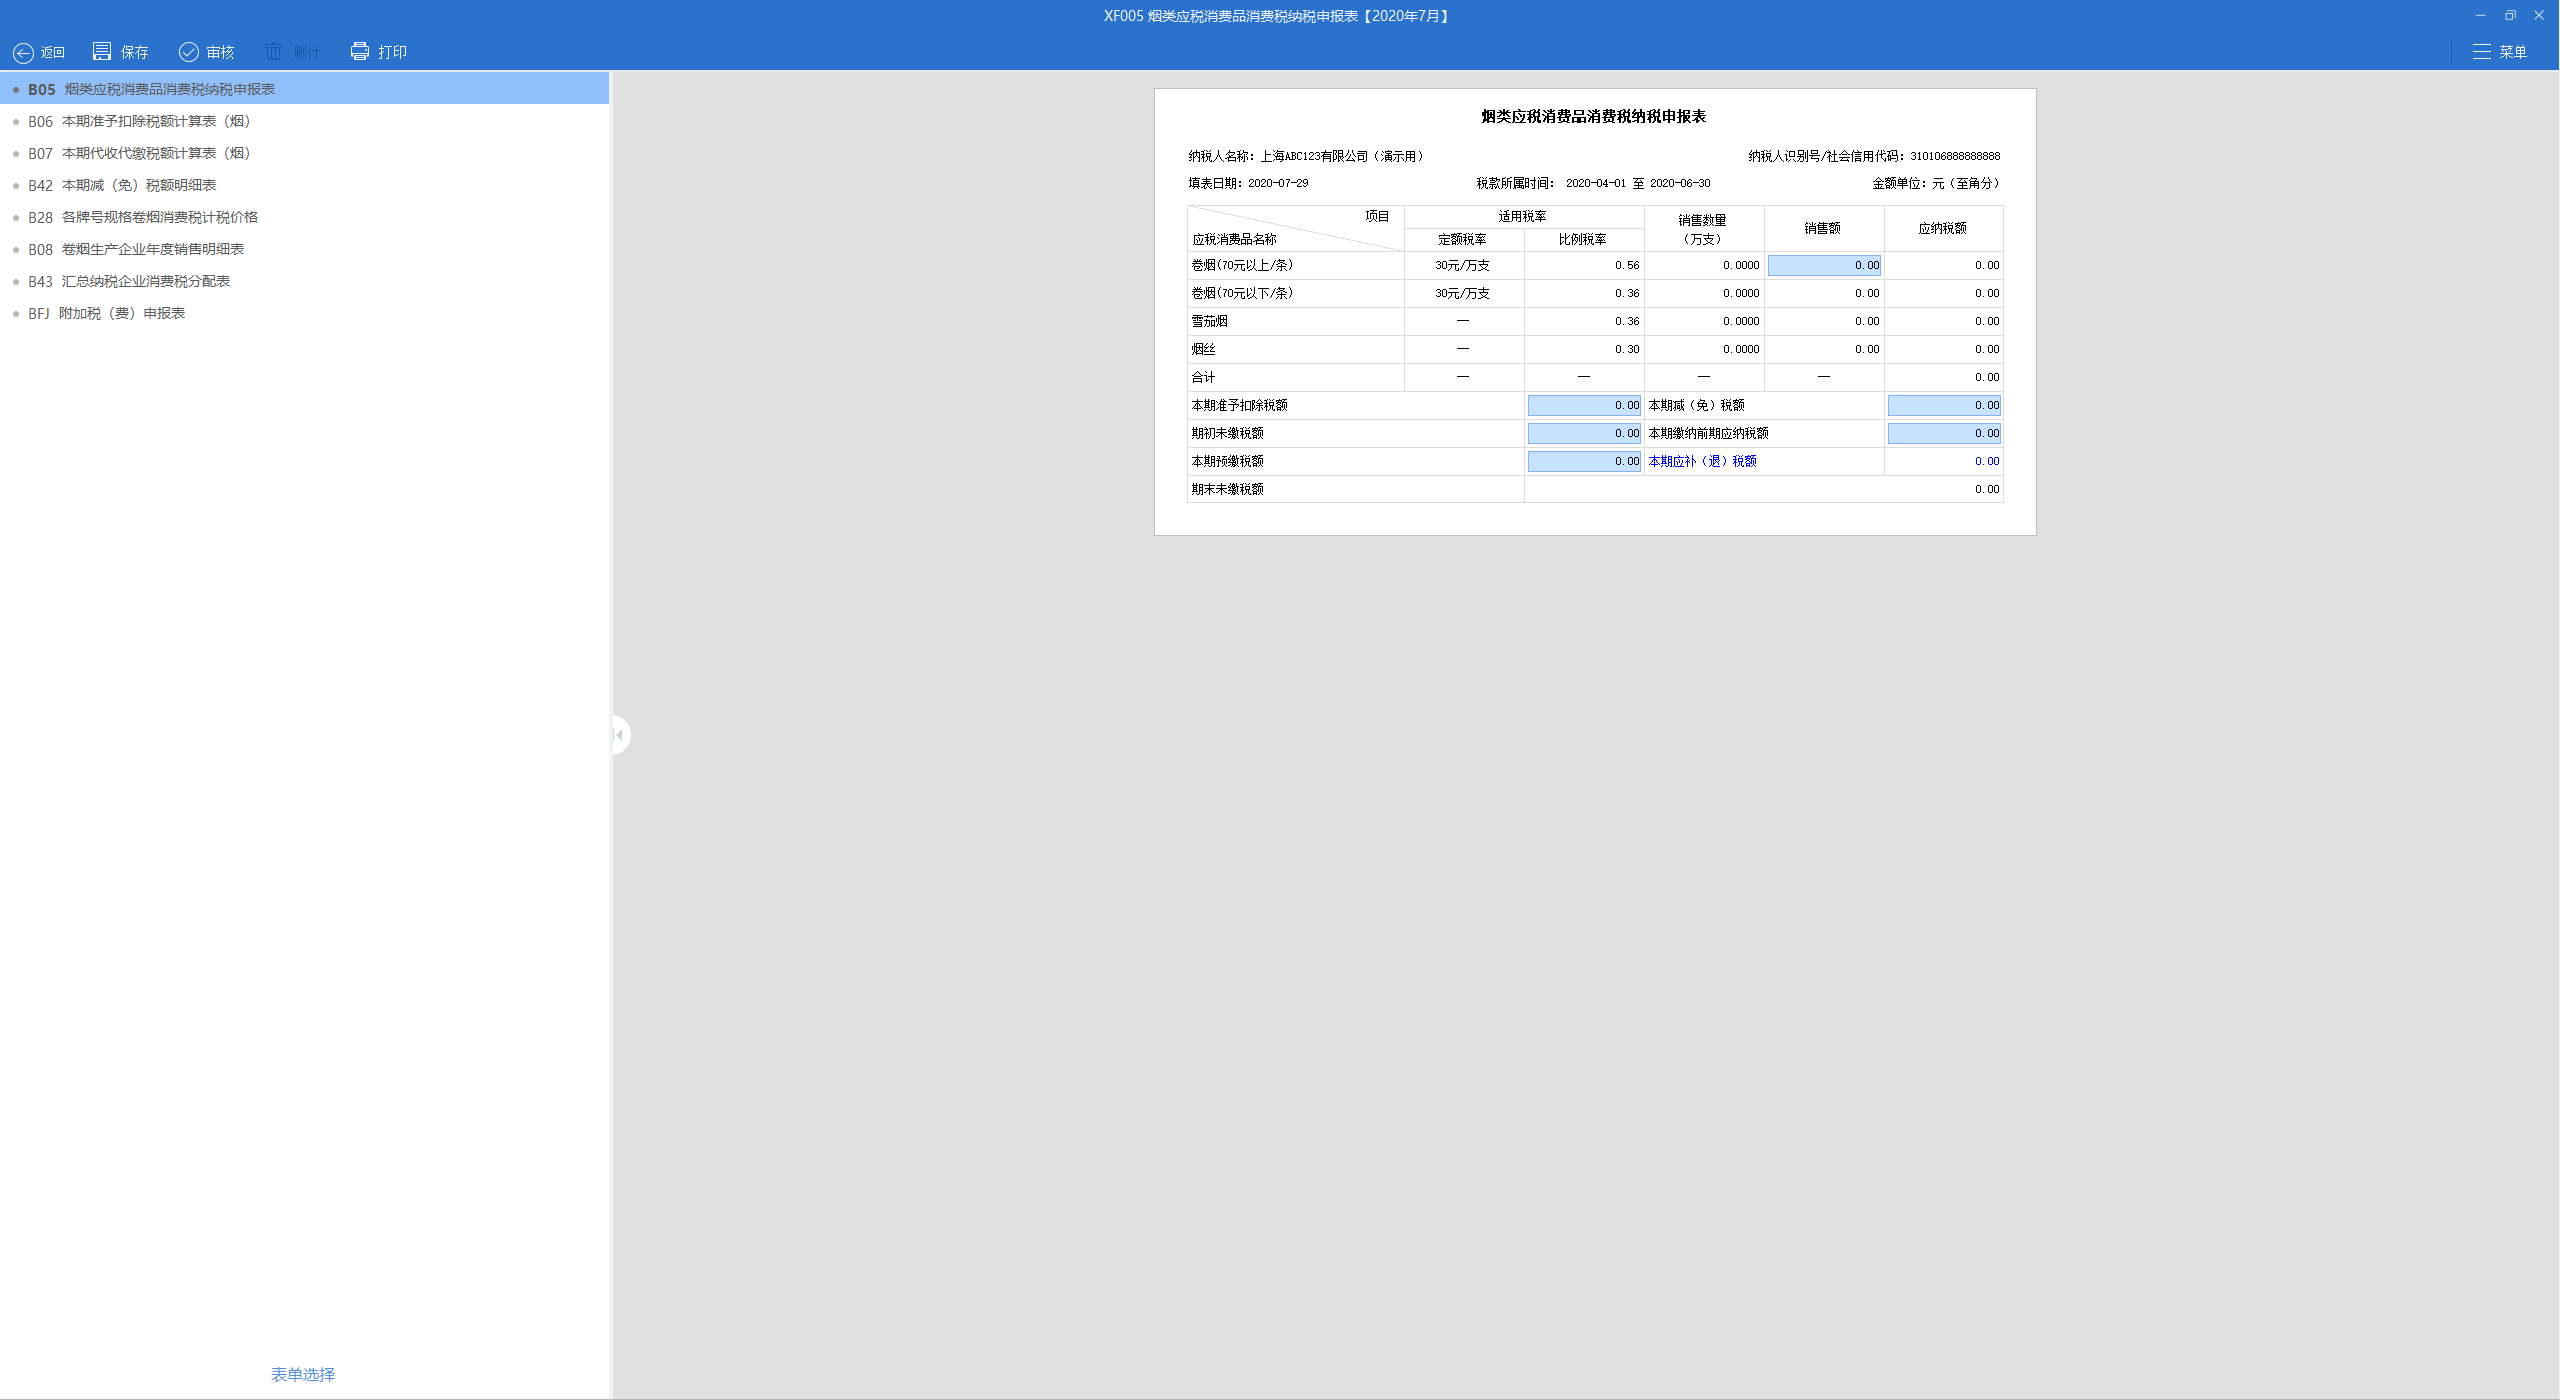character: (1100, 5, 1457, 28), (29, 79, 281, 97), (28, 176, 226, 195), (28, 241, 255, 257), (1483, 109, 1707, 124), (28, 271, 248, 286), (1474, 176, 1719, 190), (29, 302, 190, 322), (26, 210, 265, 224), (26, 114, 252, 128), (28, 145, 252, 159), (1189, 152, 1426, 164), (1746, 152, 2007, 162), (1193, 283, 1300, 303), (1870, 174, 2000, 190), (1191, 255, 1296, 274), (1676, 214, 1731, 248), (1650, 397, 1748, 414), (1646, 455, 1762, 469), (1186, 178, 1314, 190), (1189, 397, 1288, 412), (1193, 231, 1283, 247), (1189, 424, 1271, 440), (1191, 455, 1271, 471), (1653, 429, 1770, 440), (271, 1366, 334, 1383), (1553, 233, 1614, 248), (1919, 217, 1969, 234), (1796, 222, 1857, 236), (1498, 207, 1552, 222), (378, 45, 421, 64), (1434, 284, 1493, 298), (1434, 312, 1493, 326), (1560, 372, 1619, 386), (1436, 234, 1502, 247), (1677, 369, 1734, 383), (1191, 309, 1229, 328), (1850, 307, 1884, 328), (290, 41, 321, 64), (1438, 259, 1495, 271), (1719, 312, 1758, 329), (1841, 283, 1881, 300), (1189, 483, 1265, 491), (1608, 336, 1643, 355), (1850, 255, 1884, 274), (1972, 259, 2008, 276), (1965, 422, 2000, 440), (1445, 367, 1483, 383), (1602, 257, 1638, 272), (1722, 284, 1762, 298), (121, 45, 152, 62), (1719, 257, 1762, 269), (1610, 312, 1639, 329), (1972, 367, 2001, 384), (2501, 41, 2529, 59), (209, 41, 233, 60), (40, 47, 72, 60), (1970, 453, 2003, 467), (1448, 341, 1481, 355), (1807, 371, 1839, 384), (1965, 290, 2001, 302), (1965, 402, 2001, 414), (1719, 345, 1758, 355), (1358, 209, 1388, 222), (1851, 341, 1881, 355), (1191, 341, 1222, 353), (1972, 479, 2001, 491), (1191, 371, 1215, 384), (1614, 286, 1639, 298), (1970, 314, 1998, 324), (1969, 345, 1996, 355)
icon: (10, 41, 34, 64), (178, 41, 198, 62), (91, 40, 112, 60), (264, 40, 284, 60), (1614, 424, 1639, 440), (350, 41, 371, 60), (2472, 41, 2493, 60), (609, 728, 629, 747), (1615, 398, 1639, 412), (2501, 7, 2519, 22), (2472, 7, 2488, 22), (2531, 7, 2546, 22), (3, 278, 21, 286), (10, 116, 22, 128), (9, 84, 22, 95), (10, 210, 21, 221), (10, 245, 21, 255), (12, 305, 22, 314), (10, 147, 16, 159), (5, 184, 21, 186)
